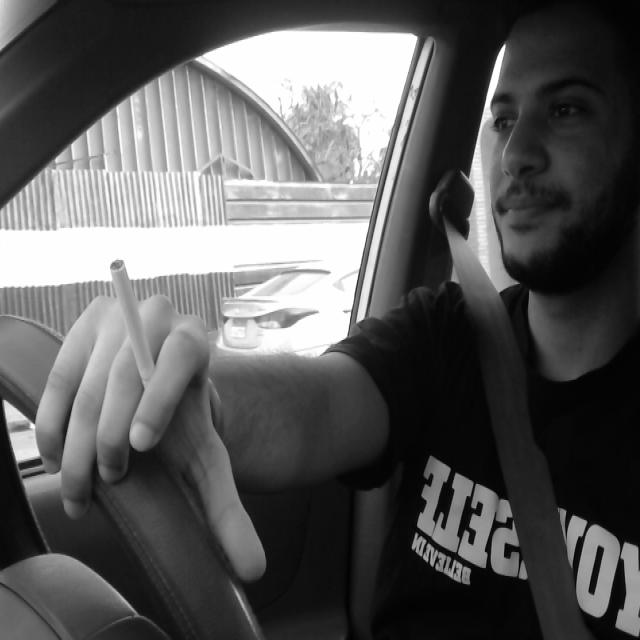smoking: (111, 253, 161, 408)
